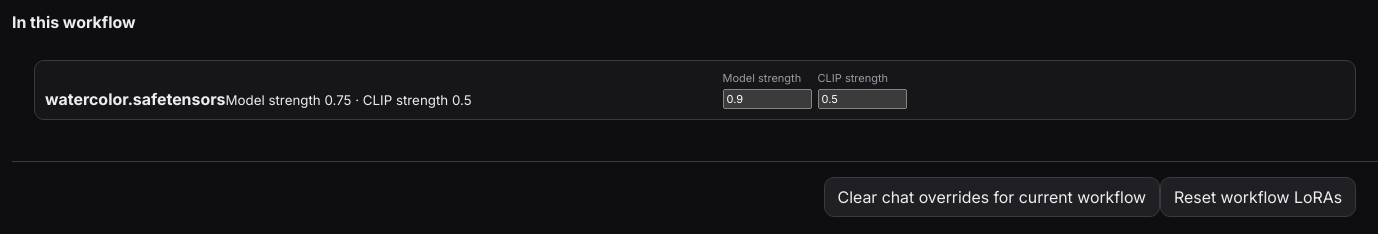
Test: clears only this chat's changes so an inherited value shows again
Expected: the number field named "watercolor.safetensors model strength" holds "0.9", [723,89,812,109]
Click the button "Clear chat overrides for current workflow".
click(992, 197)  # box [824,177,1160,217]
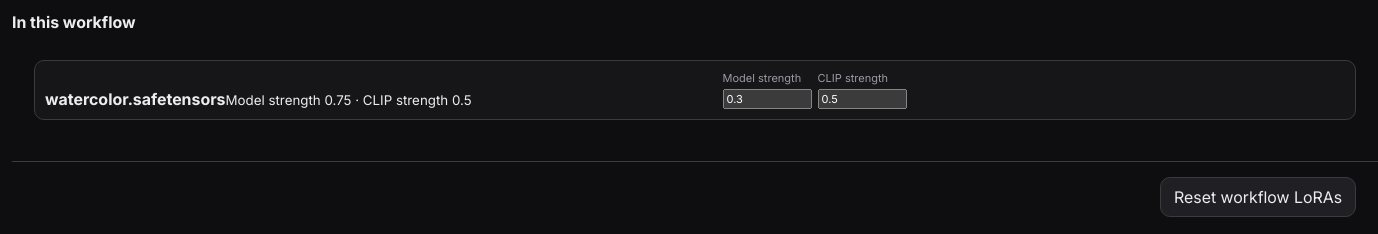
Expected: the number field named "watercolor.safetensors model strength" holds "0.3", [723,89,812,109]
Expected: the button "Clear chat overrides for current workflow" is gone
